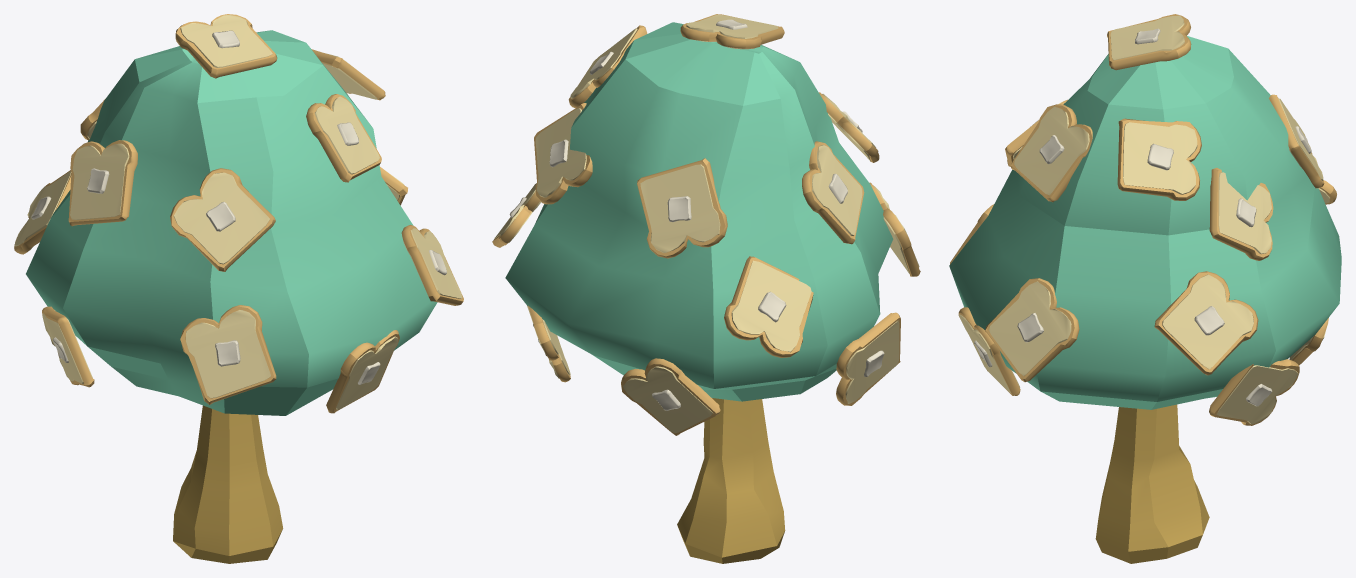
The model's file is toast_tree.fbx.
3 renders of one model, left to right at view 1: azimuth 30°, elevation 25°; view 2: azimuth 150°, elevation 25°; view 3: azimuth 270°, elevation 25°, orthographic. The views are drawn at different scales.
Parts seen in each view (by area): view 1: pPlane19; view 2: pPlane19; view 3: pPlane19.
Part boxes in pixels (x1=…): pPlane19: x1=14, y1=14, x2=463, y2=563; pPlane19: x1=492, y1=14, x2=920, y2=563; pPlane19: x1=949, y1=14, x2=1341, y2=563.
Size of the model in its own units: 165 by 221 by 153.
